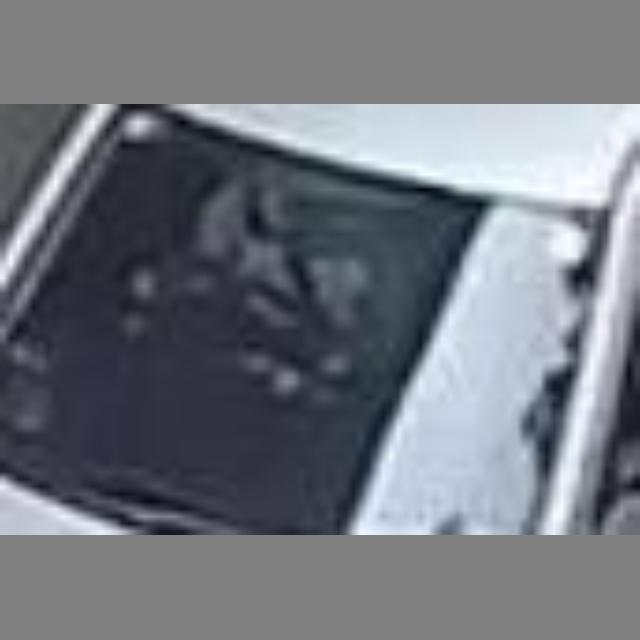pakai: (201, 156, 402, 394)
